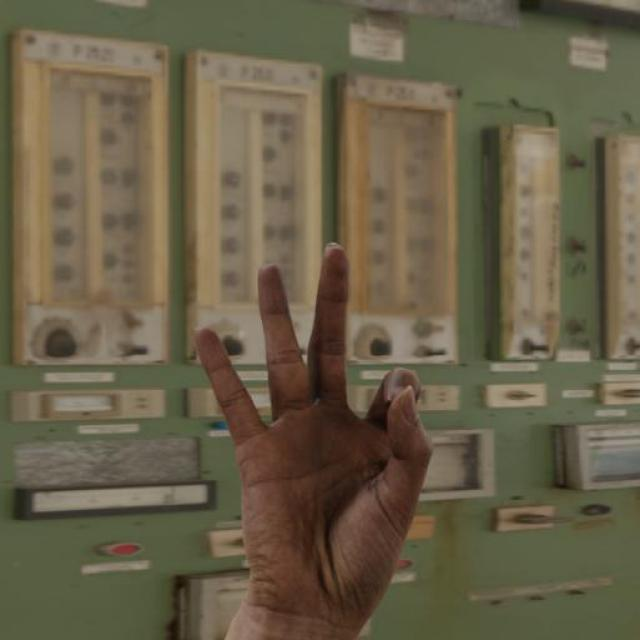F: (191, 238, 437, 622)
